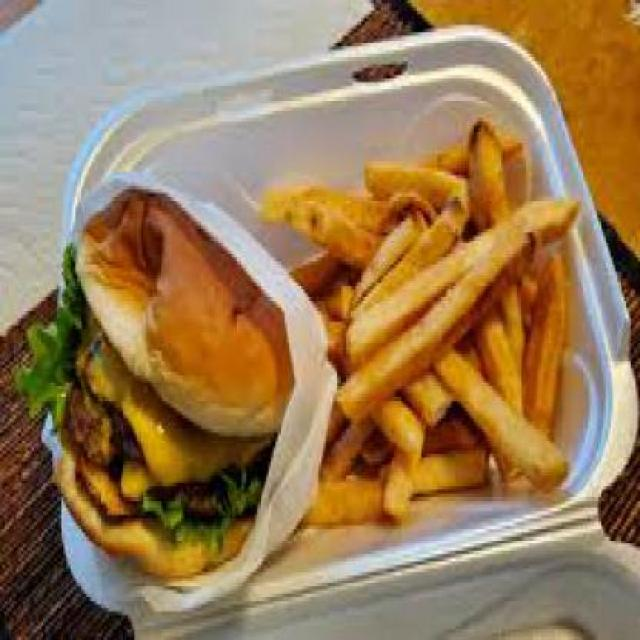french fries: (258, 111, 580, 529)
hamburger: (21, 175, 302, 594)
